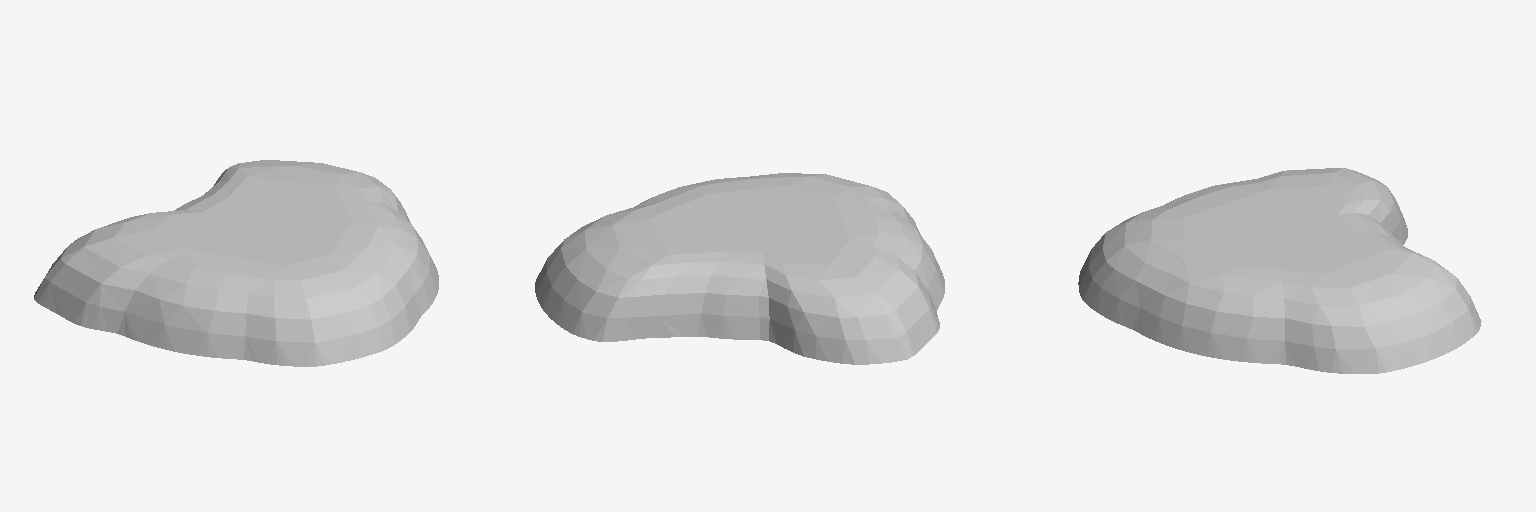
The model's file is oil.obj.
3 renders of one model, left to right at view 1: azimuth 30°, elevation 25°; view 2: azimuth 150°, elevation 25°; view 3: azimuth 270°, elevation 25°, orthographic.
Parts seen in each view (by area): view 1: Circle; view 2: Circle; view 3: Circle.
Part boxes in pixels (bbox=[...]): Circle: bbox=[34, 160, 438, 366]; Circle: bbox=[535, 173, 944, 364]; Circle: bbox=[1078, 168, 1481, 373].
Size of the model in its own units: 2.29 by 0.3518 by 2.2.